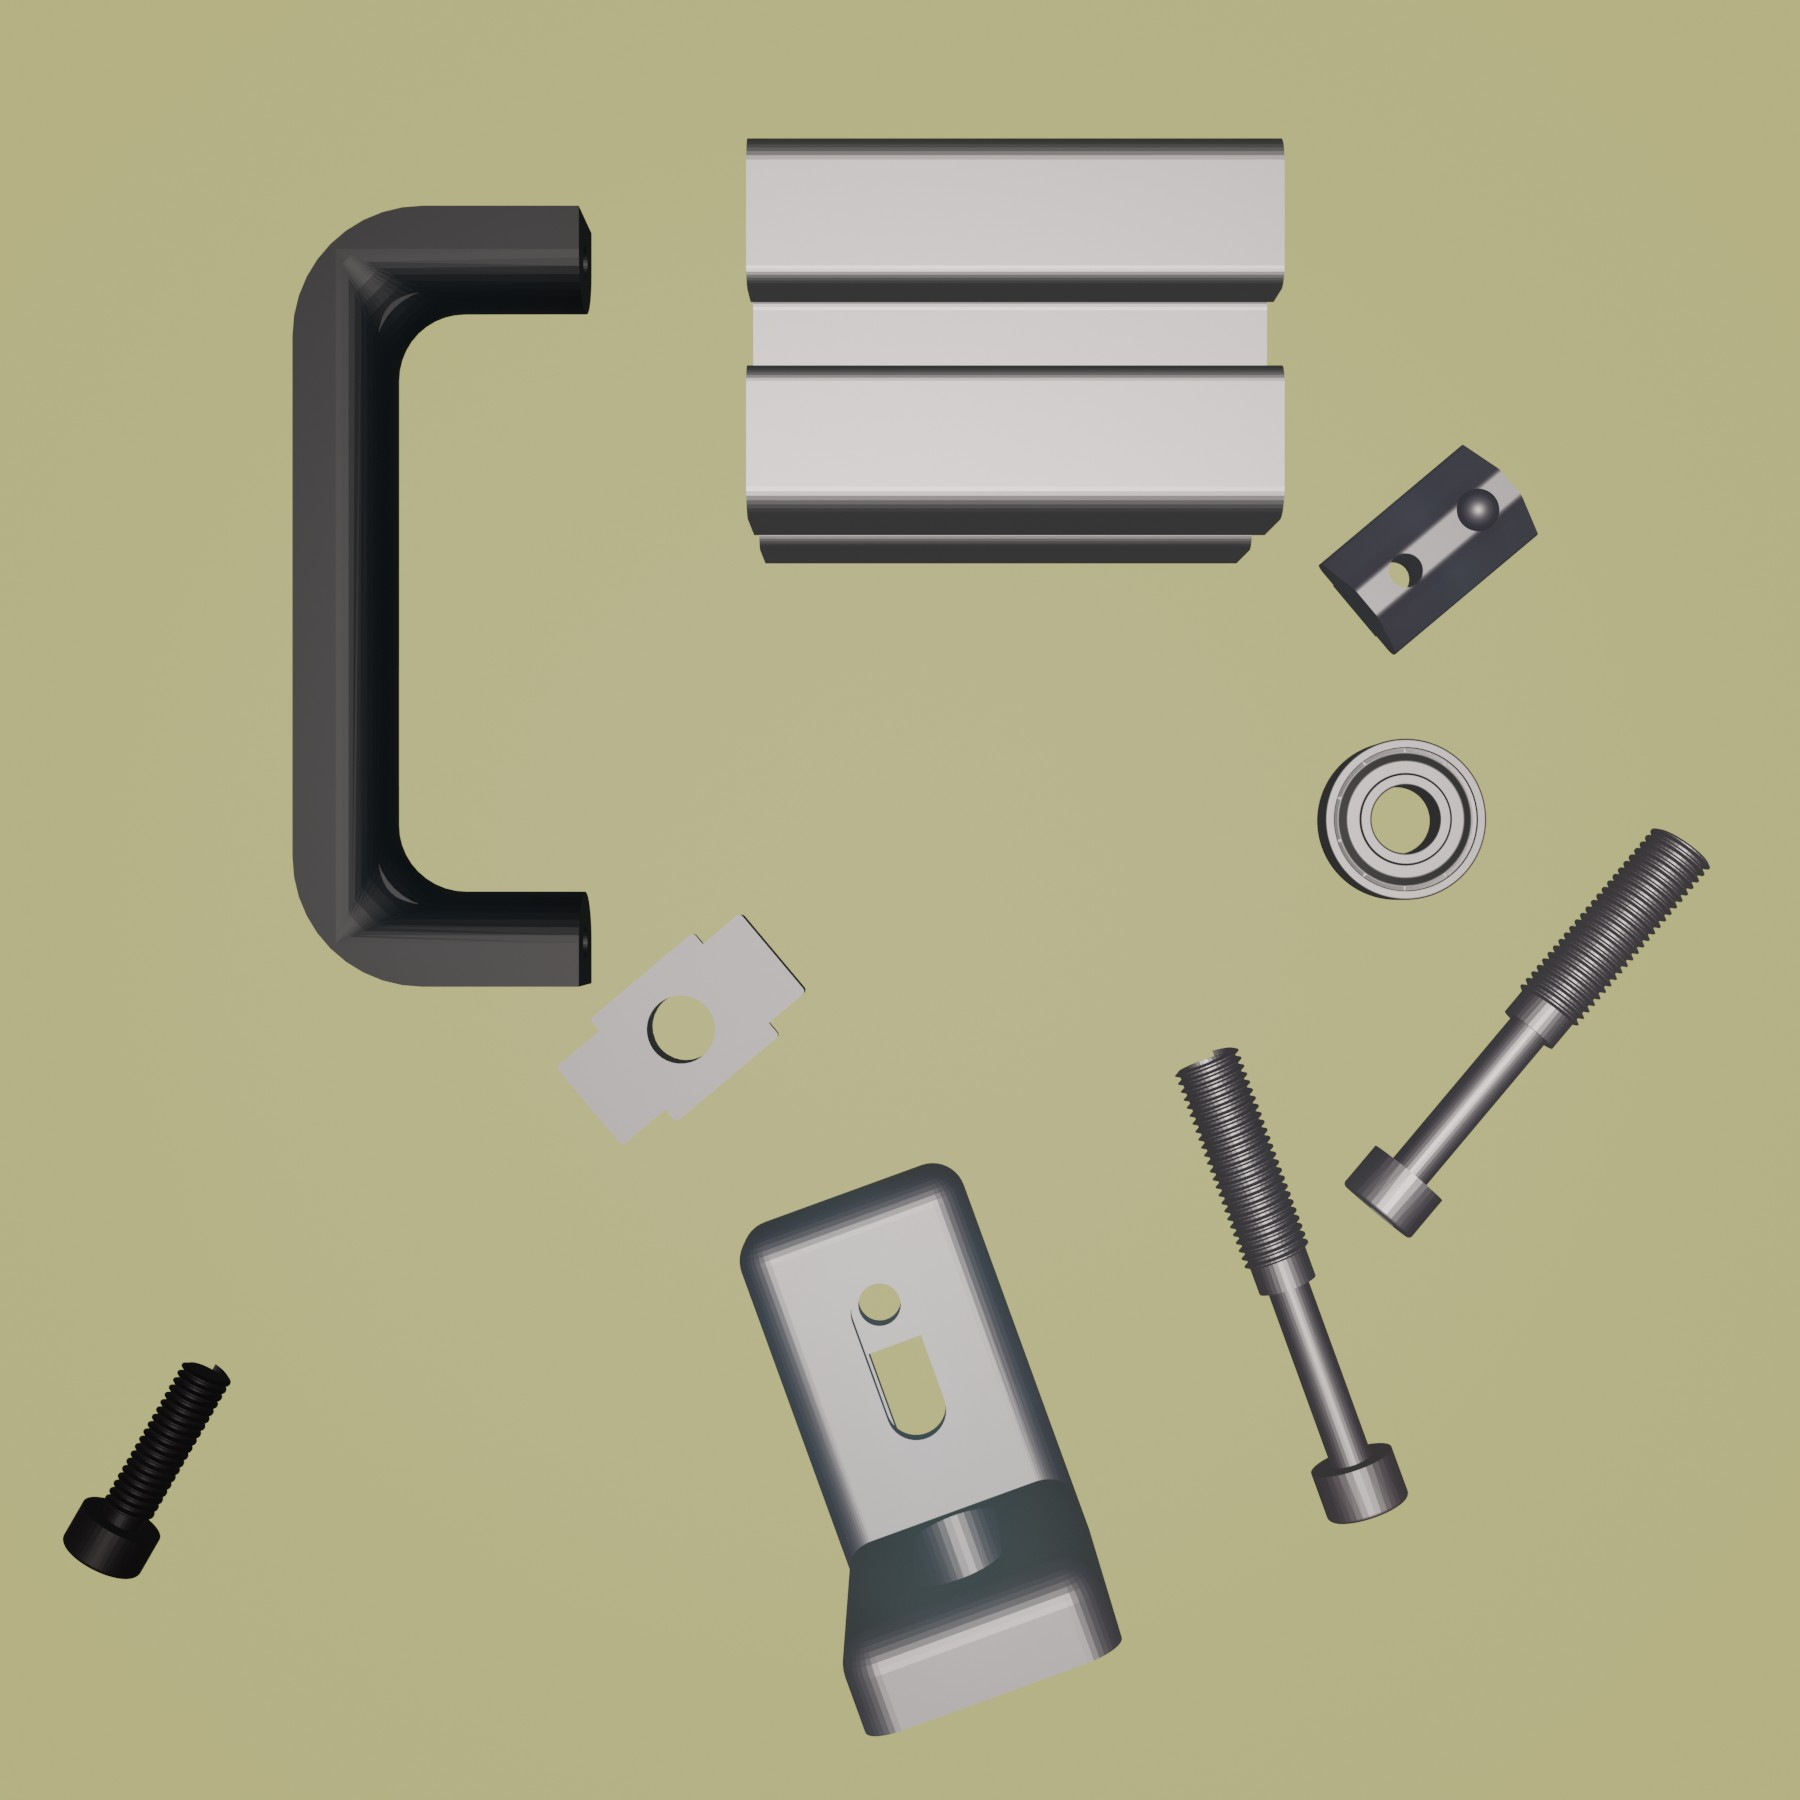Aluminium Extension: (738, 132, 1291, 570)
Ball Bearing: (1315, 735, 1485, 903)
Multiwinkel: (735, 1159, 1124, 1741)
Pull Handle: (287, 199, 597, 991)
Shoulder Socket Head Cap Screw: (1338, 823, 1713, 1241), (1170, 1043, 1411, 1528)
Socket Head Cap Screw: (63, 1357, 232, 1581)
T Nut Square: (551, 907, 813, 1146)
T Spring Nut: (1317, 442, 1541, 659)
